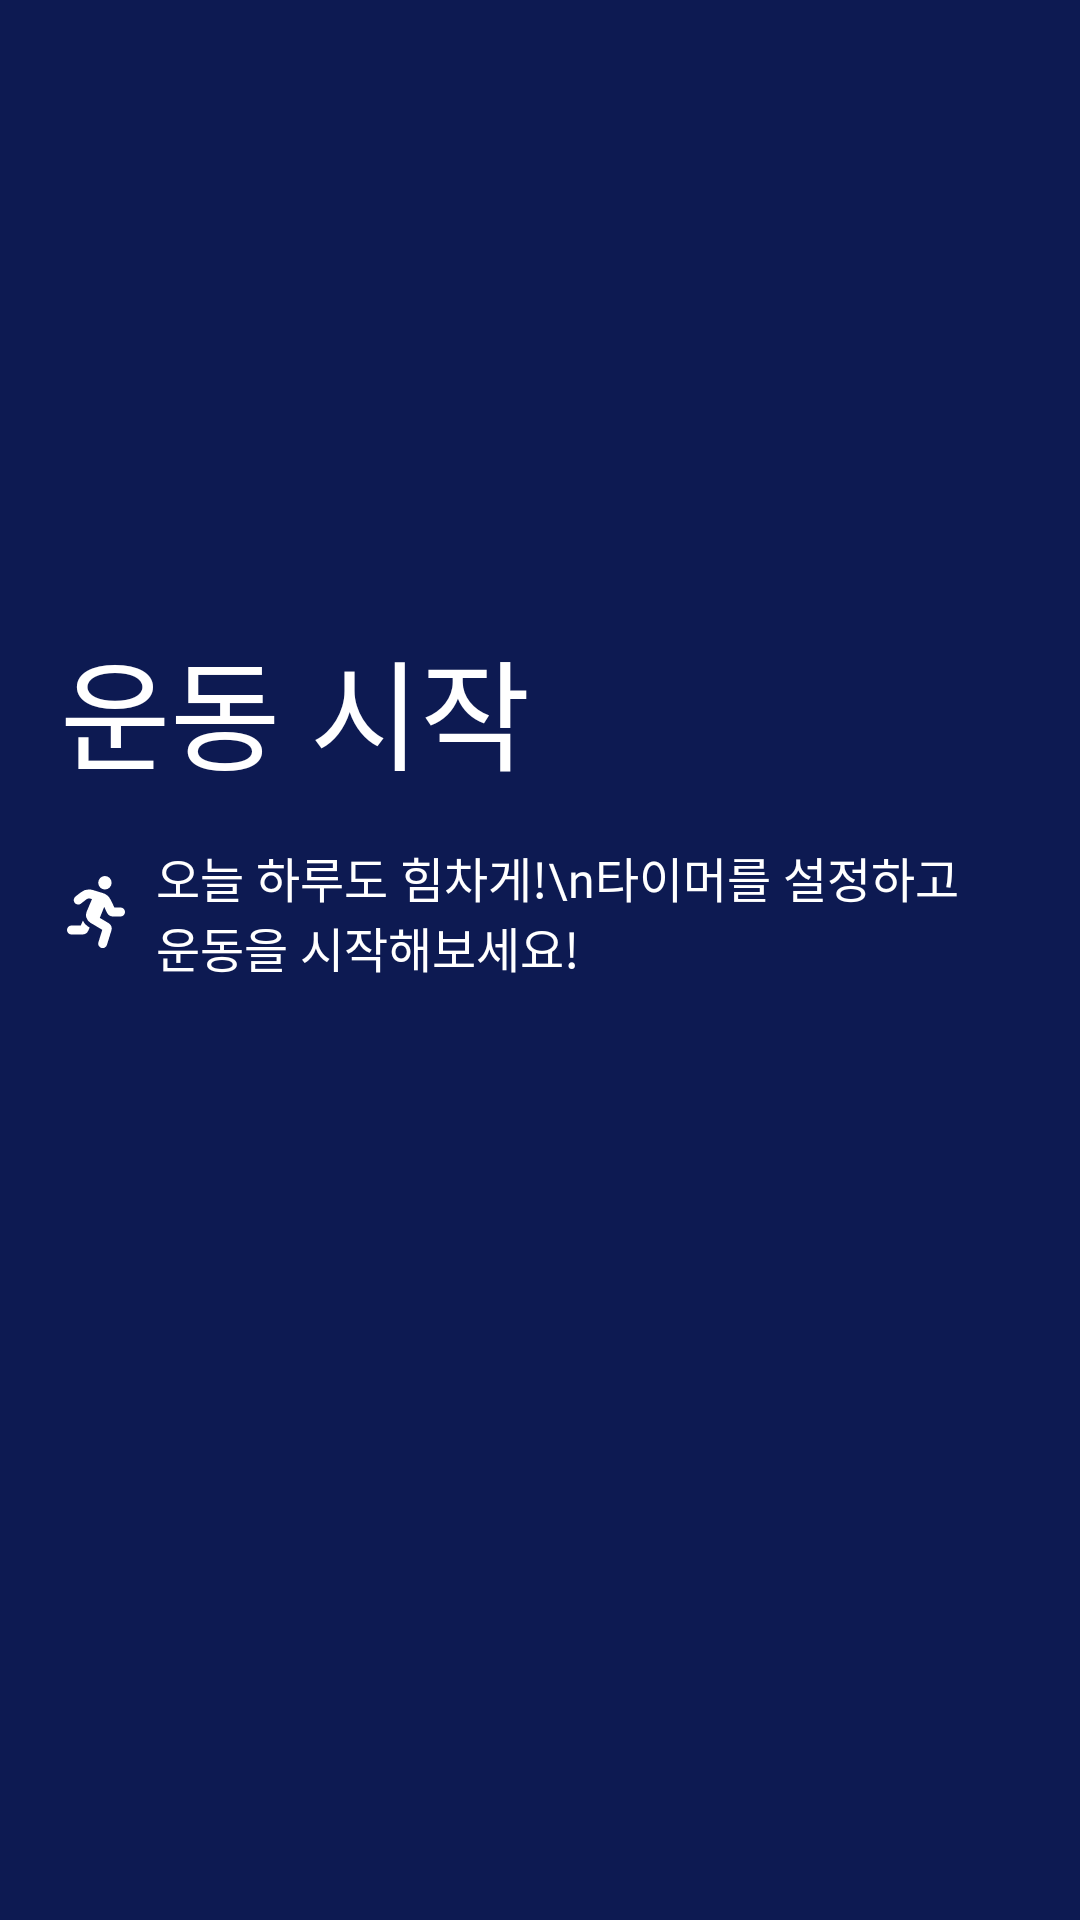

Icon bounding boxes for this 1080×1920 phone screenshot, format bbox=(x1, y1, x2, y2):
running: bbox=(67, 876, 125, 948)
